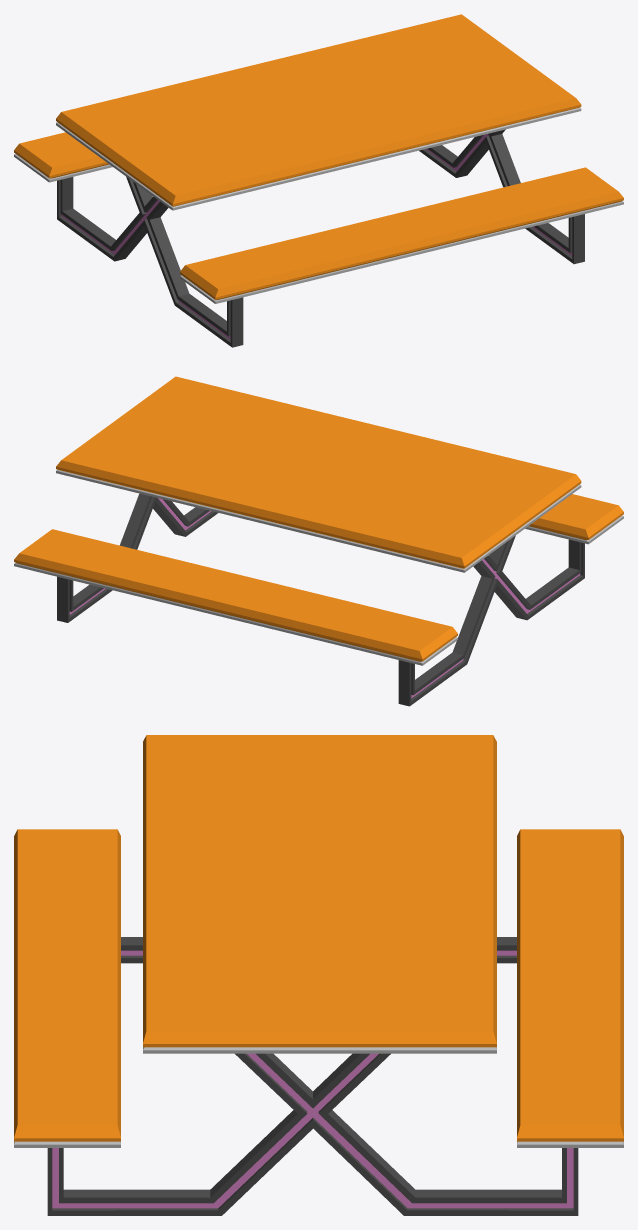
The model's file is Table.fbx.
3 renders of one model, top to bottom at view 1: azimuth 30°, elevation 25°; view 2: azimuth 150°, elevation 25°; view 3: azimuth 270°, elevation 25°, orthographic. The views are drawn at different scales.
Visible parts, largest first — view 1: SM_Table; view 2: SM_Table; view 3: SM_Table.
Part boxes in pixels (left/top/right/bottom): SM_Table: left=14, top=14, right=623, bottom=347; SM_Table: left=14, top=376, right=623, bottom=706; SM_Table: left=14, top=735, right=623, bottom=1215.
Size of the model in its own units: 240 by 75 by 205.
